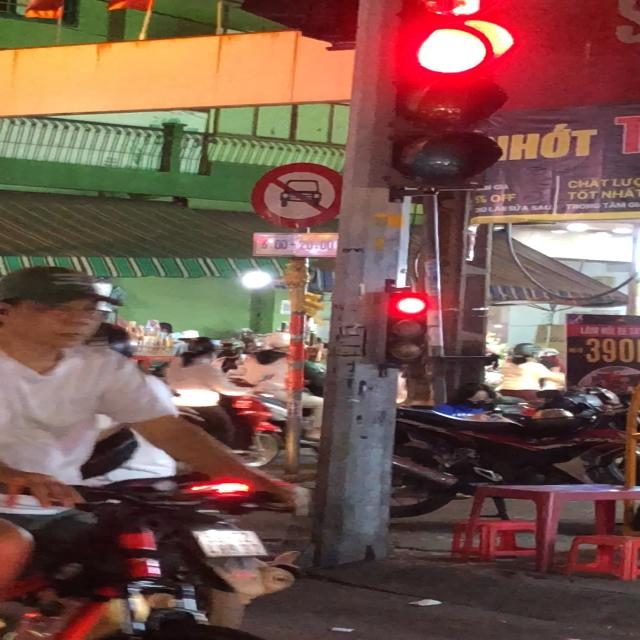Bien bao cam xe oto: (250, 161, 346, 231)
